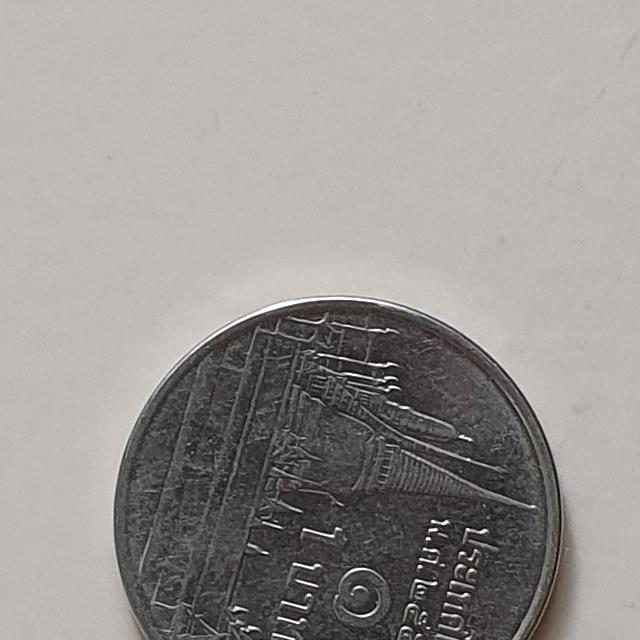1 Bath: (101, 287, 571, 640)
